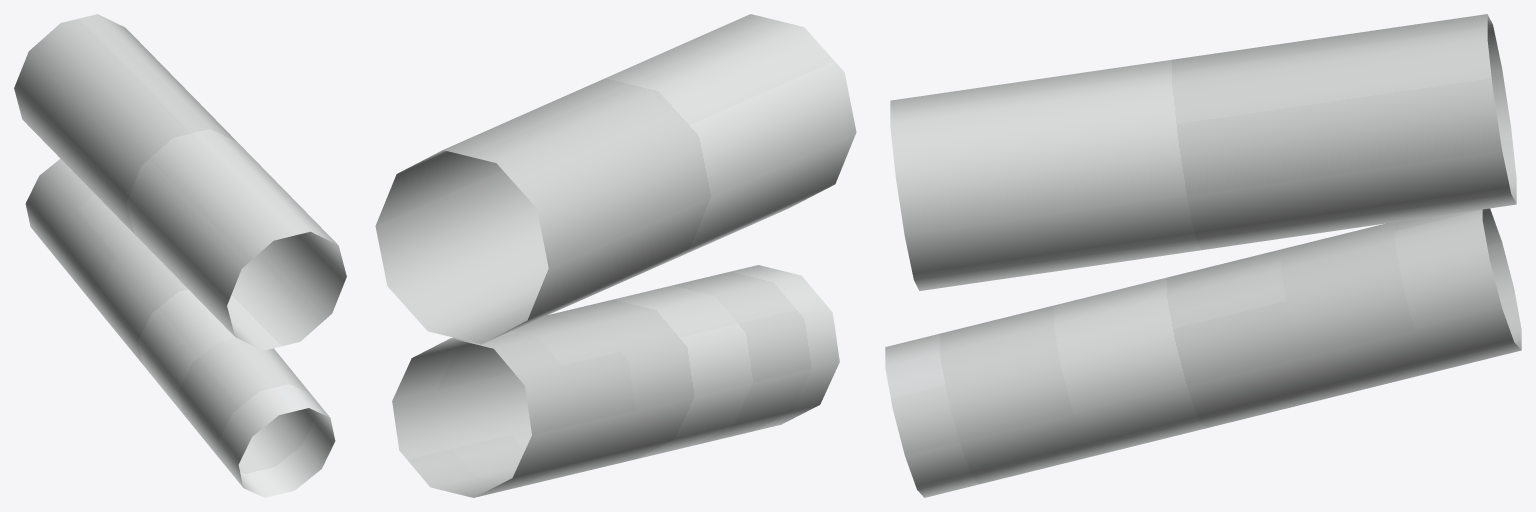
Rendered from trusssignalarm_sloped12_c15.obj.
The picture shows the model from 3 angles, left to right: view 1: azimuth 30°, elevation 25°; view 2: azimuth 150°, elevation 25°; view 3: azimuth 270°, elevation 25°; orthographic projection. The views are drawn at different scales.
Visible parts, largest first — view 1: trusssignalarm_sloped12_c15; view 2: trusssignalarm_sloped12_c15; view 3: trusssignalarm_sloped12_c15.
Part boxes in pixels (x1,y1,x2,y2): trusssignalarm_sloped12_c15: [14, 14, 346, 497]; trusssignalarm_sloped12_c15: [375, 14, 856, 497]; trusssignalarm_sloped12_c15: [885, 14, 1521, 497].
Size of the model in its own units: 0.325 by 0.8518 by 1.07.
